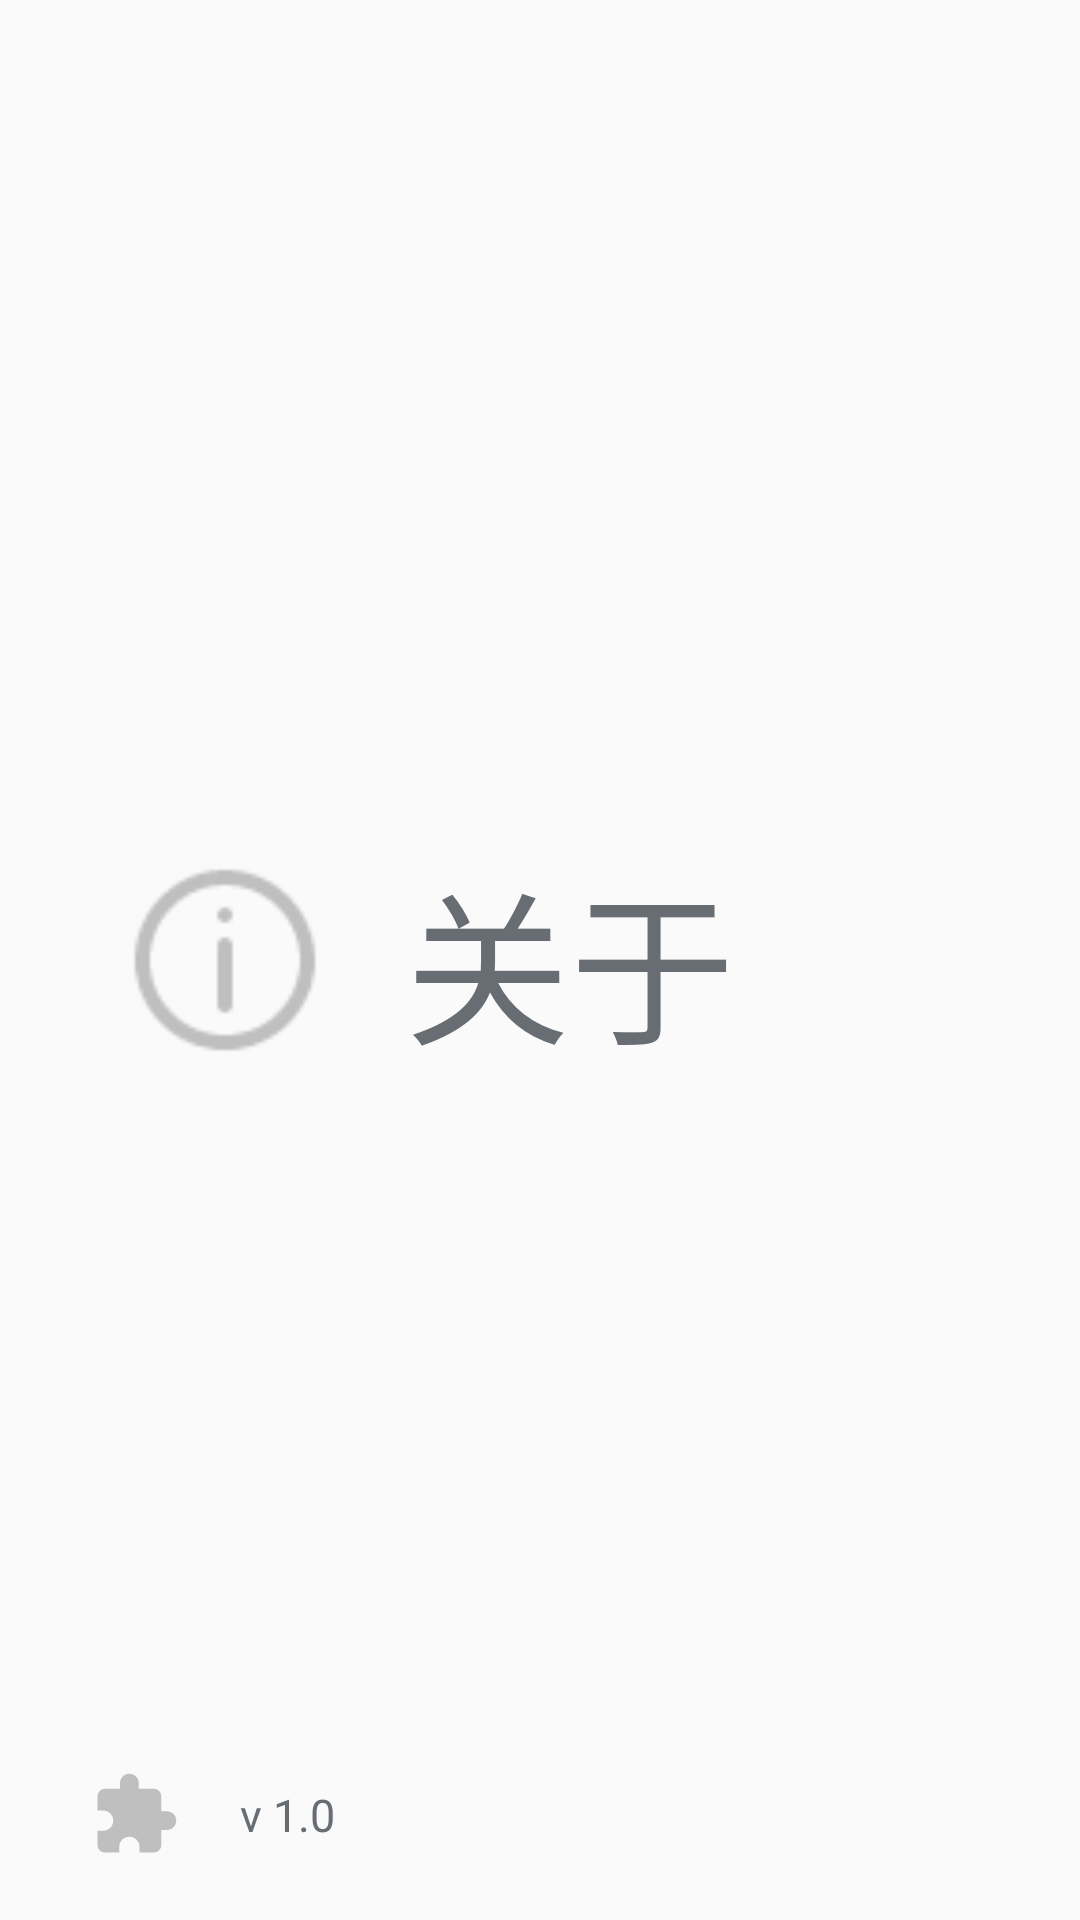

Where to tap for icons on this 1080px×1920px app screen, as (x,y):
about: (225,960)
